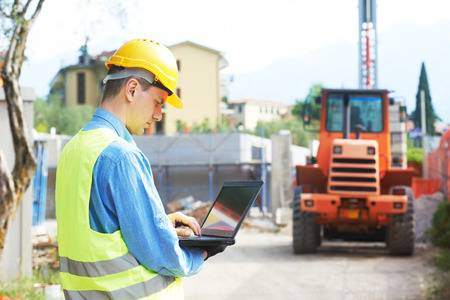casco: (102, 36, 186, 111)
